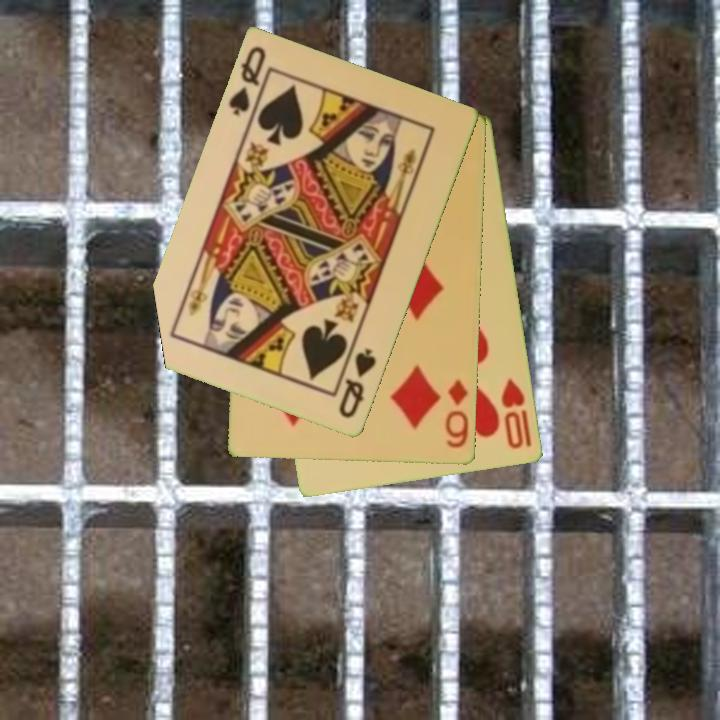10h: (498, 374, 529, 453)
6d: (442, 377, 472, 452)
Qs: (335, 345, 380, 422), (225, 43, 269, 119)
